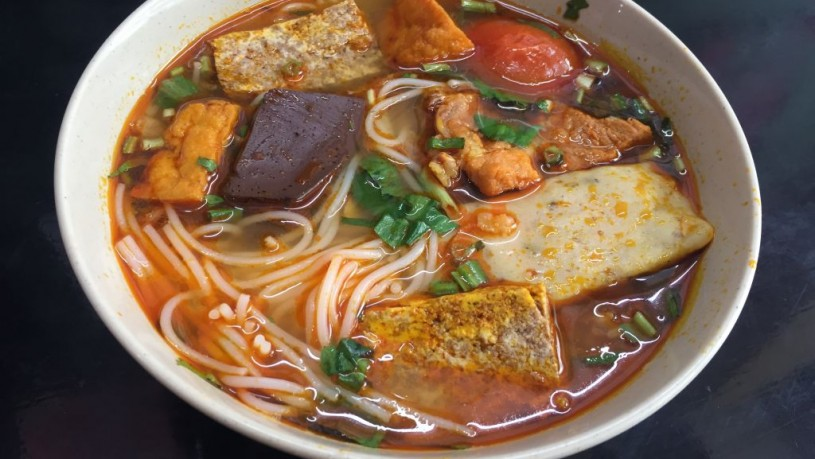chamoc: (473, 158, 696, 301)
rieu: (375, 289, 541, 379)
tofu: (134, 98, 245, 207)
tomato: (446, 23, 594, 87)
